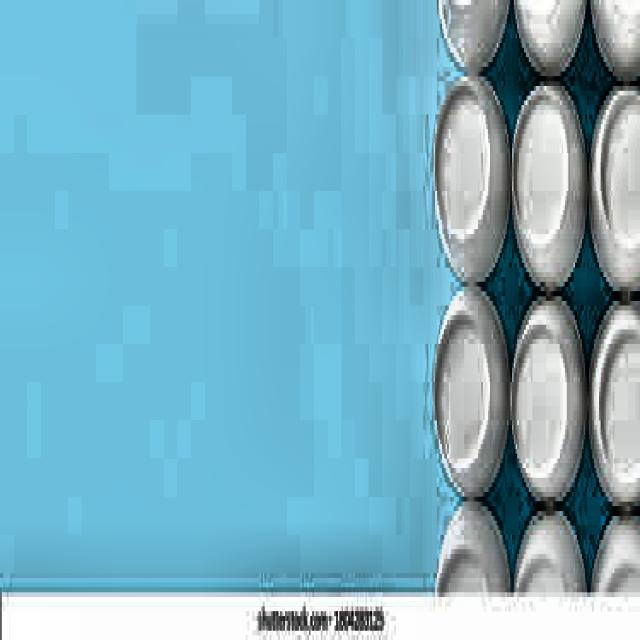Cup: (512, 282, 591, 506), (508, 88, 592, 293), (431, 73, 508, 294), (428, 287, 504, 500), (589, 74, 640, 299), (590, 296, 640, 519)
